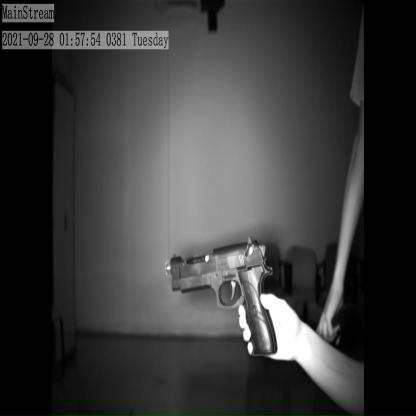weapon: (169, 227, 280, 360)
